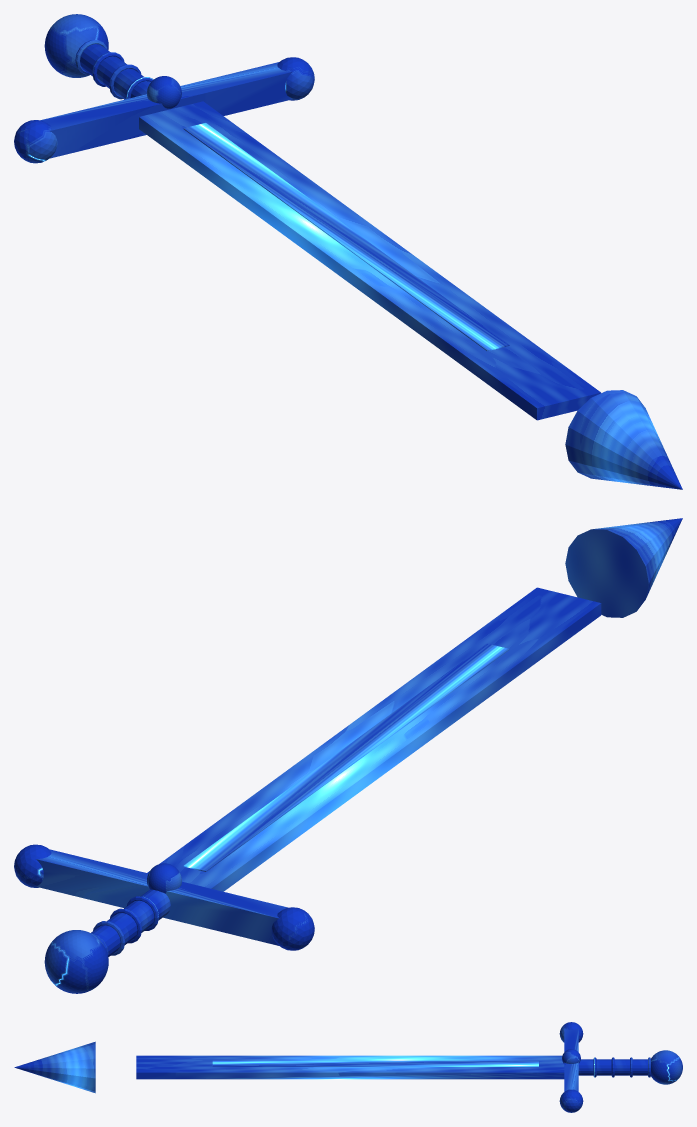
File: rusted_sword.glb
The picture shows the model from 3 angles, top to bottom: view 1: azimuth 30°, elevation 25°; view 2: azimuth 150°, elevation 25°; view 3: azimuth 270°, elevation 25°; orthographic projection. The views are drawn at different scales.
Parts seen in each view (by area): view 1: geometry_0; view 2: geometry_0; view 3: geometry_0.
Boxes of the visible parts, box(x1,y1,x2,y2) form: geometry_0: box(14, 14, 682, 489); geometry_0: box(14, 518, 682, 993); geometry_0: box(14, 1022, 682, 1112).
Bounding box in the file's own units: 0.2737 × 0.0775 × 1.
Materials: 1 (1 with a texture image).
